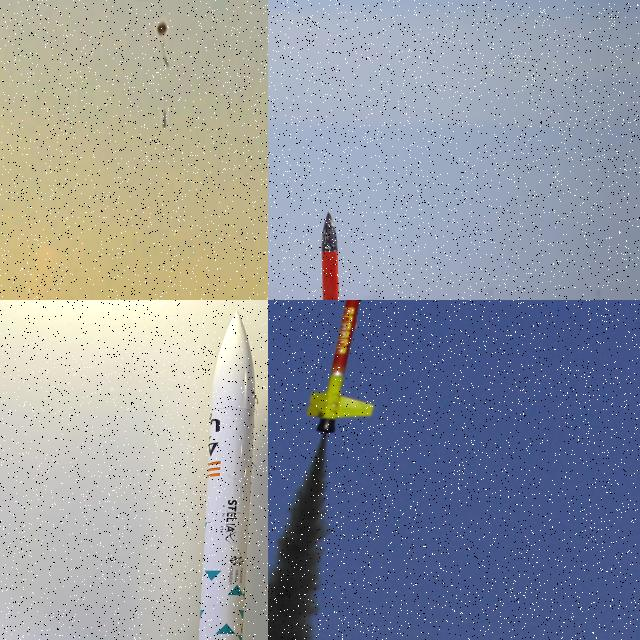Rocket: (198, 310, 255, 640), (302, 300, 383, 437), (308, 211, 348, 300), (162, 108, 167, 130)
